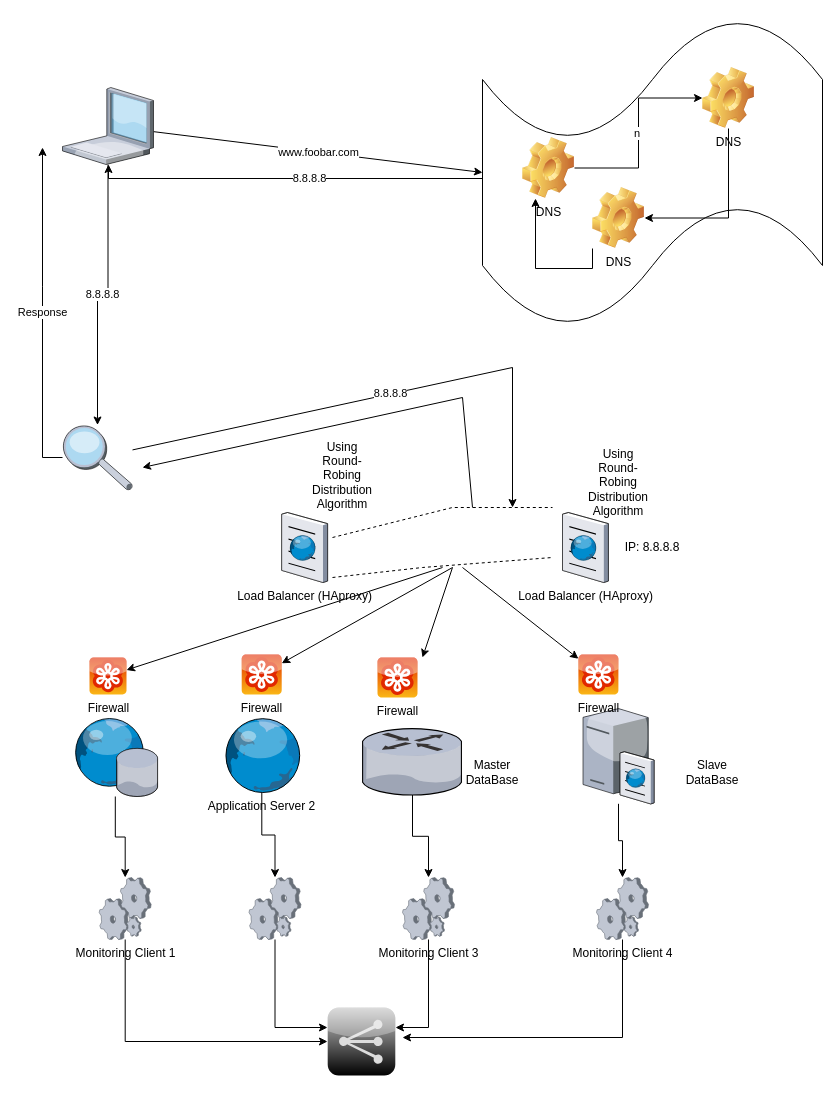
Some shapes in this 840 by 1093 pixel diagram are drawn without their labels. Here are the shapes that lost their labels. From the top down, the centre of each, then its label:
At (97,457): "SSL Certificate".
At (115,756): "Global Server 1".
At (412,761): "Database Server 3".
At (618,754): "Server 4 (active)".
At (274,908): "Monitoring Client 2".
